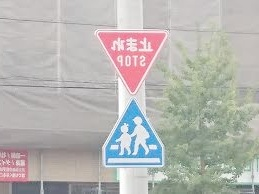Regulatory_sign_triangle: (95, 24, 168, 90)
